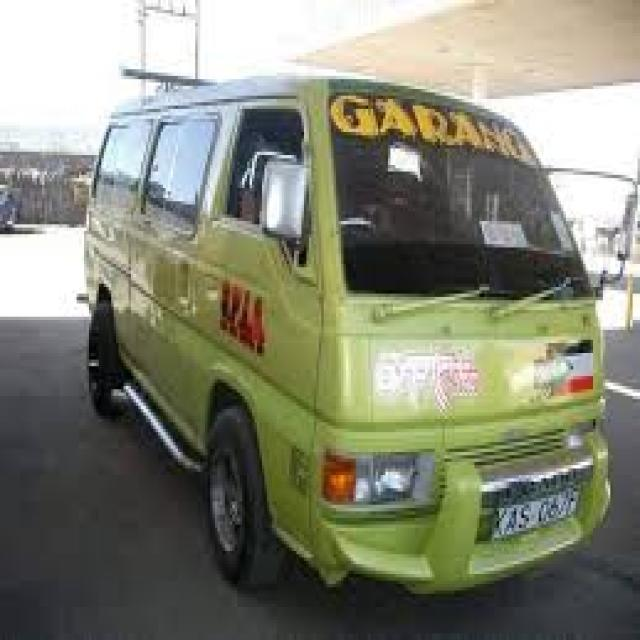matatu: (59, 37, 640, 610)
